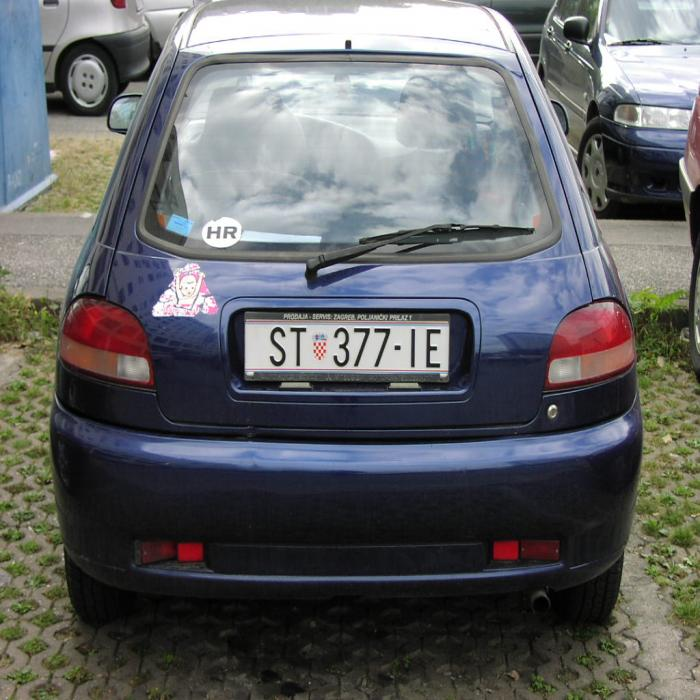number_plate: (245, 318, 448, 370)
